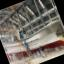fishing boat: (0, 9, 64, 64)
